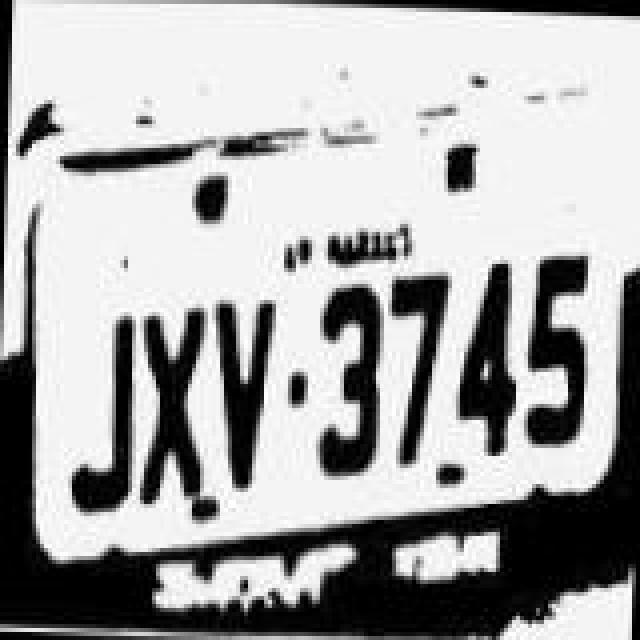3: (308, 268, 384, 488)
4: (452, 246, 528, 474)
5: (518, 234, 594, 478)
7: (378, 260, 450, 472)
J: (62, 286, 142, 514)
V: (206, 270, 278, 498)
X: (132, 270, 208, 502)
